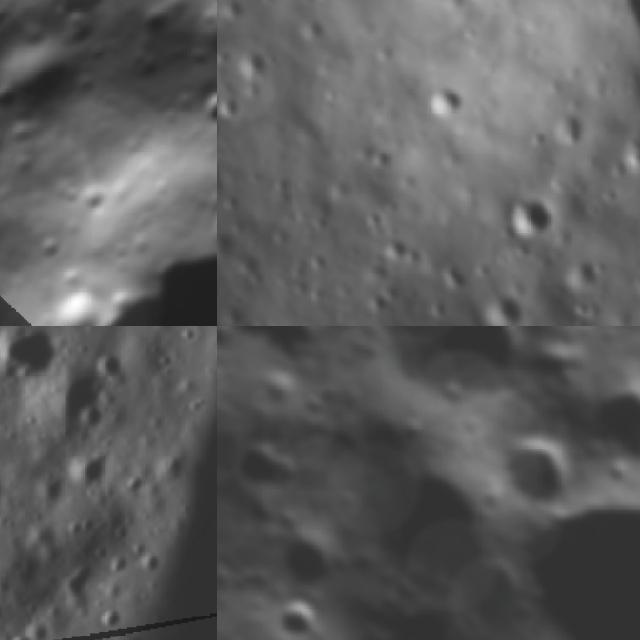crater: (0, 158, 217, 326), (480, 455, 640, 640), (362, 326, 549, 443), (410, 525, 546, 640), (0, 12, 103, 141), (480, 415, 594, 529), (217, 411, 318, 527), (30, 350, 132, 452), (566, 360, 640, 481), (266, 522, 356, 612), (217, 326, 333, 389), (0, 326, 76, 402), (58, 440, 118, 499), (38, 0, 129, 38), (272, 590, 339, 640), (52, 552, 106, 610), (121, 534, 178, 588), (504, 195, 562, 238), (418, 75, 464, 123), (29, 464, 74, 510), (88, 342, 134, 386), (68, 396, 112, 439), (87, 594, 129, 636), (479, 293, 532, 326), (550, 108, 587, 151), (190, 79, 217, 136), (237, 44, 274, 84), (563, 252, 599, 289), (119, 467, 154, 503), (102, 544, 132, 577), (164, 0, 217, 18), (170, 326, 202, 349), (217, 150, 229, 193)
